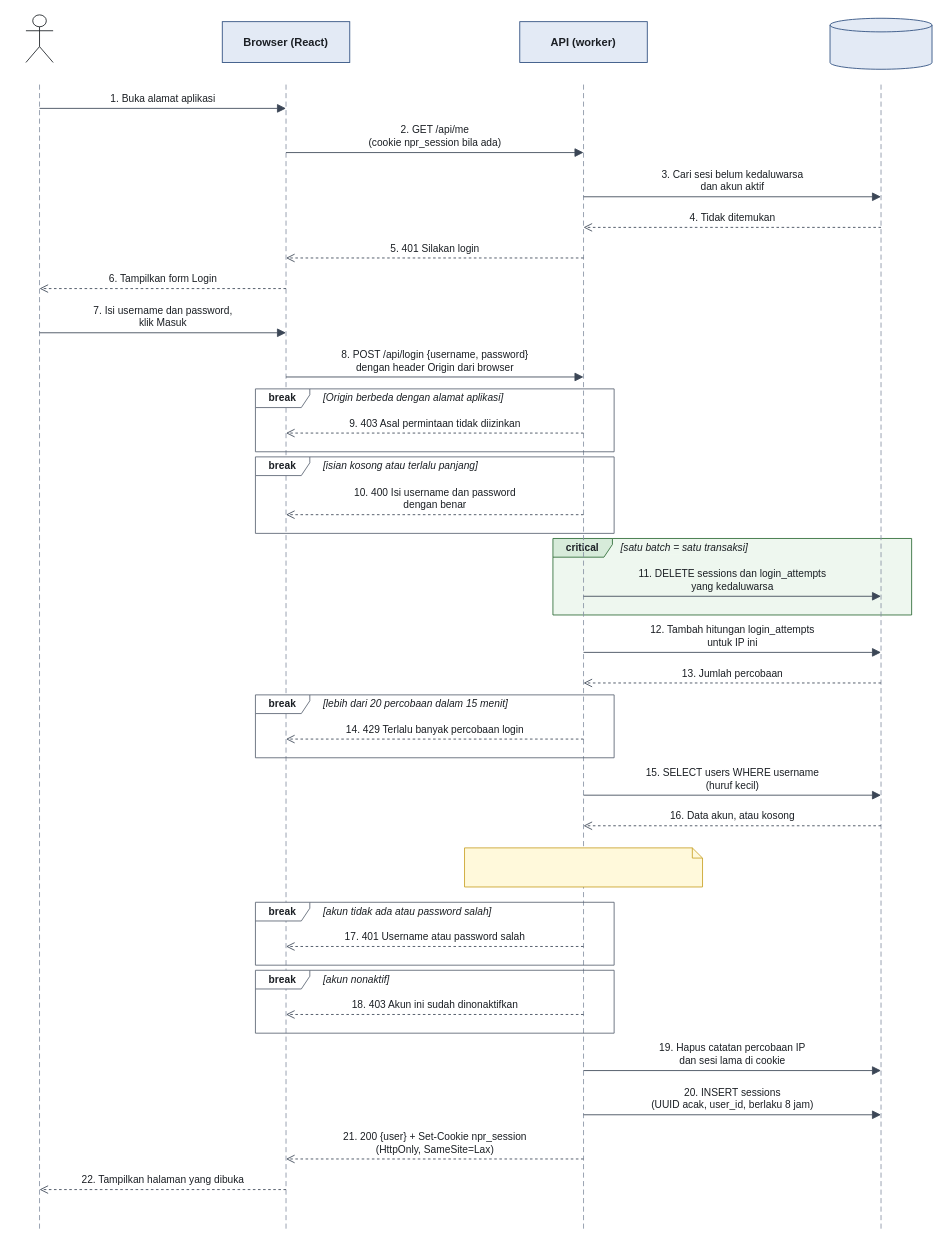
Some shapes in this 947 by 1244 pixel diagram are drawn without their labels. Each missing label, with the centre of its shape:
Database: the point at 880,43
Helpdesk: the point at 39,38
Hitung hash PBKDF2 (100.000 putaran), tetap dihitung walau akun tidak ada: the point at 583,867
